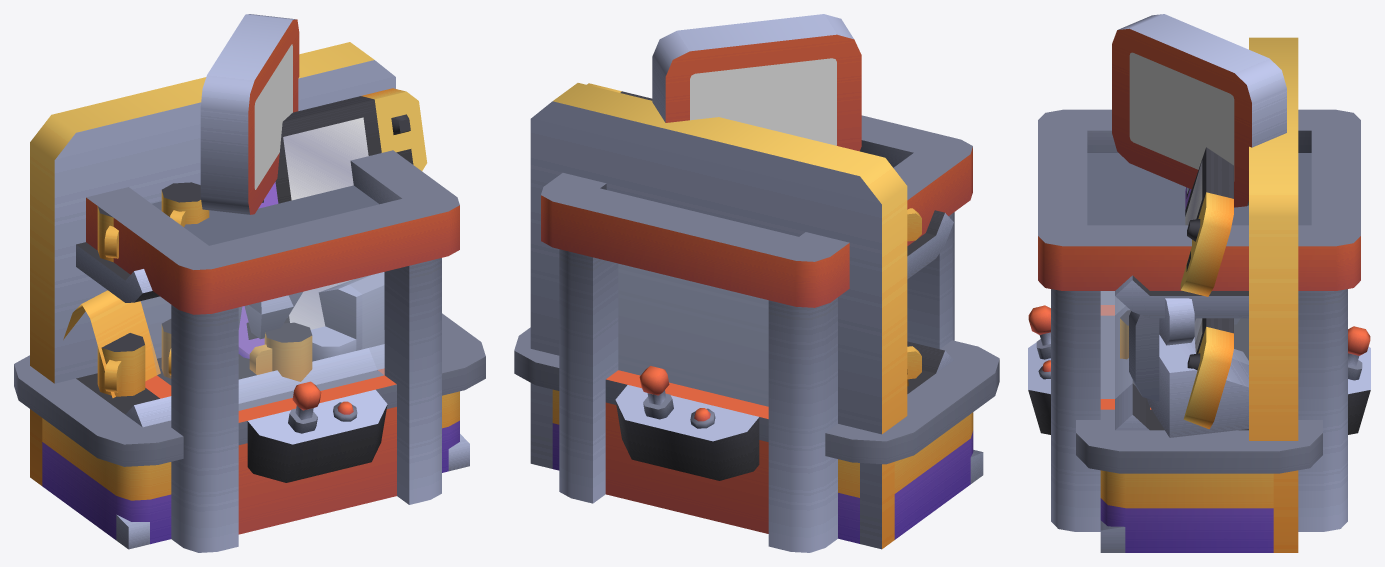
Rendered from arcade.glb.
3 renders of one model, left to right at view 1: azimuth 30°, elevation 25°; view 2: azimuth 150°, elevation 25°; view 3: azimuth 270°, elevation 25°, orthographic. The views are drawn at different scales.
Visible parts, largest first — view 1: claw-machine, prizes, cash-register, (%ignore), rotate-y; view 2: claw-machine, prizes, rotate-y, cash-register, (%ignore); view 3: claw-machine, prizes, cash-register, rotate-y, (%ignore).
Boxes of the visible parts, x1,y1,x2,y2 form: claw-machine: (86,150,459,552); prizes: (30,42,469,549); cash-register: (14,272,485,544); (%ignore): (141,272,384,410); rotate-y: (200,14,299,214); claw-machine: (541,115,972,552); prizes: (530,83,983,549); rotate-y: (652,14,861,151); cash-register: (514,327,999,543); (%ignore): (618,264,768,406); claw-machine: (1028,109,1370,531); prizes: (1100,37,1298,552); cash-register: (1076,291,1322,552); rotate-y: (1112,14,1286,207); (%ignore): (1100,291,1248,398).
Bounding box in the file's own units: 0.9 × 0.95 × 0.6932.
Materials: 2 (1 with a texture image).
